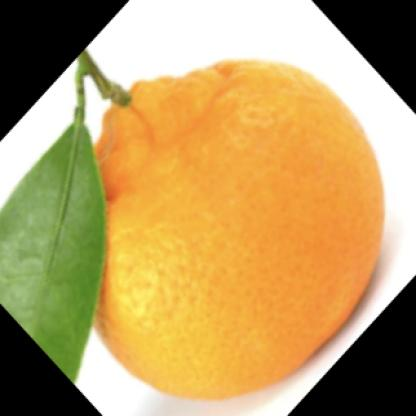fresh: (63, 58, 385, 402)
